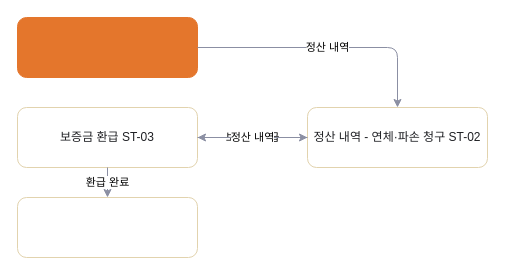
This 505x275 diagram has some shape labels left out. The centre of each missing label's shape, as x and y in pixels:
"점검 진행 중 ST-01" belongs at point (107, 47).
"환급 완료 ST-04" belongs at point (107, 227).
